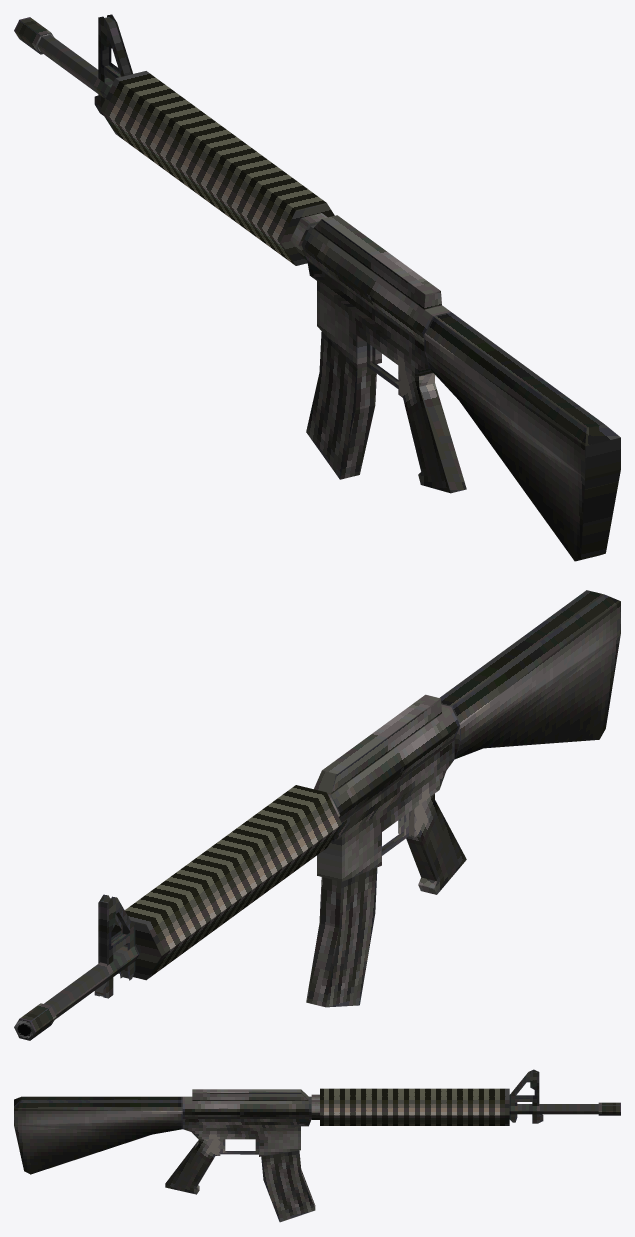
File: recovered_gun_m16a2.glb
3 renders of one model, top to bottom at view 1: azimuth 30°, elevation 25°; view 2: azimuth 150°, elevation 25°; view 3: azimuth 270°, elevation 25°, orthographic. The views are drawn at different scales.
Parts seen in each view (by area): view 1: Gun_f8f8cf3f9285; view 2: Gun_f8f8cf3f9285; view 3: Gun_f8f8cf3f9285.
Part boxes in pixels (x1,y1,x2,y2): Gun_f8f8cf3f9285: (14, 14, 620, 561); Gun_f8f8cf3f9285: (19, 590, 620, 1040); Gun_f8f8cf3f9285: (14, 1069, 620, 1222).
Bounding box in the file's own units: 0.0617 × 0.2728 × 1.
Materials: 2 (2 with a texture image).
